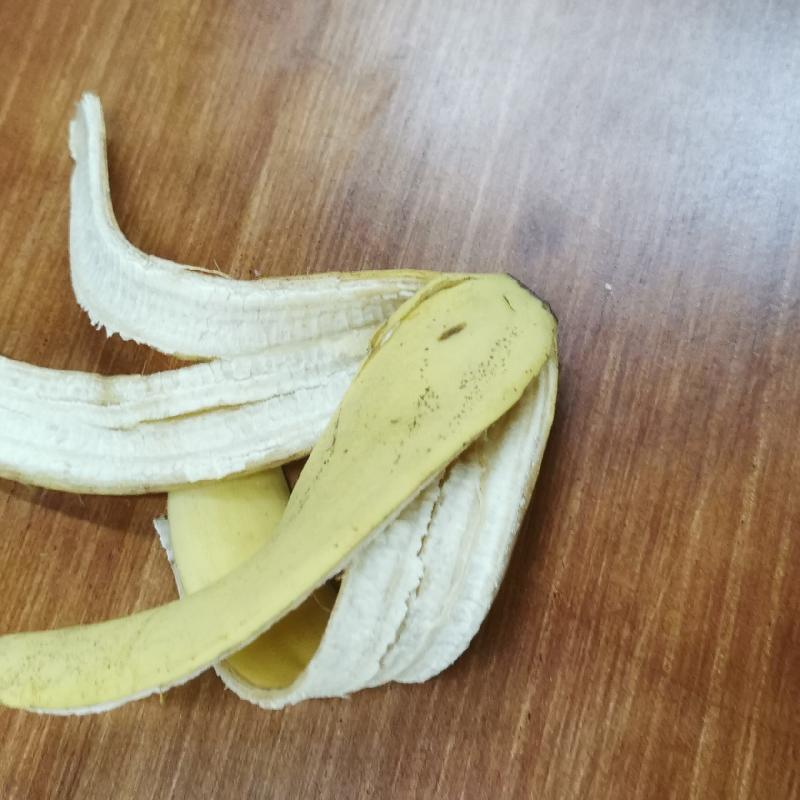bananas: (0, 91, 562, 721)
